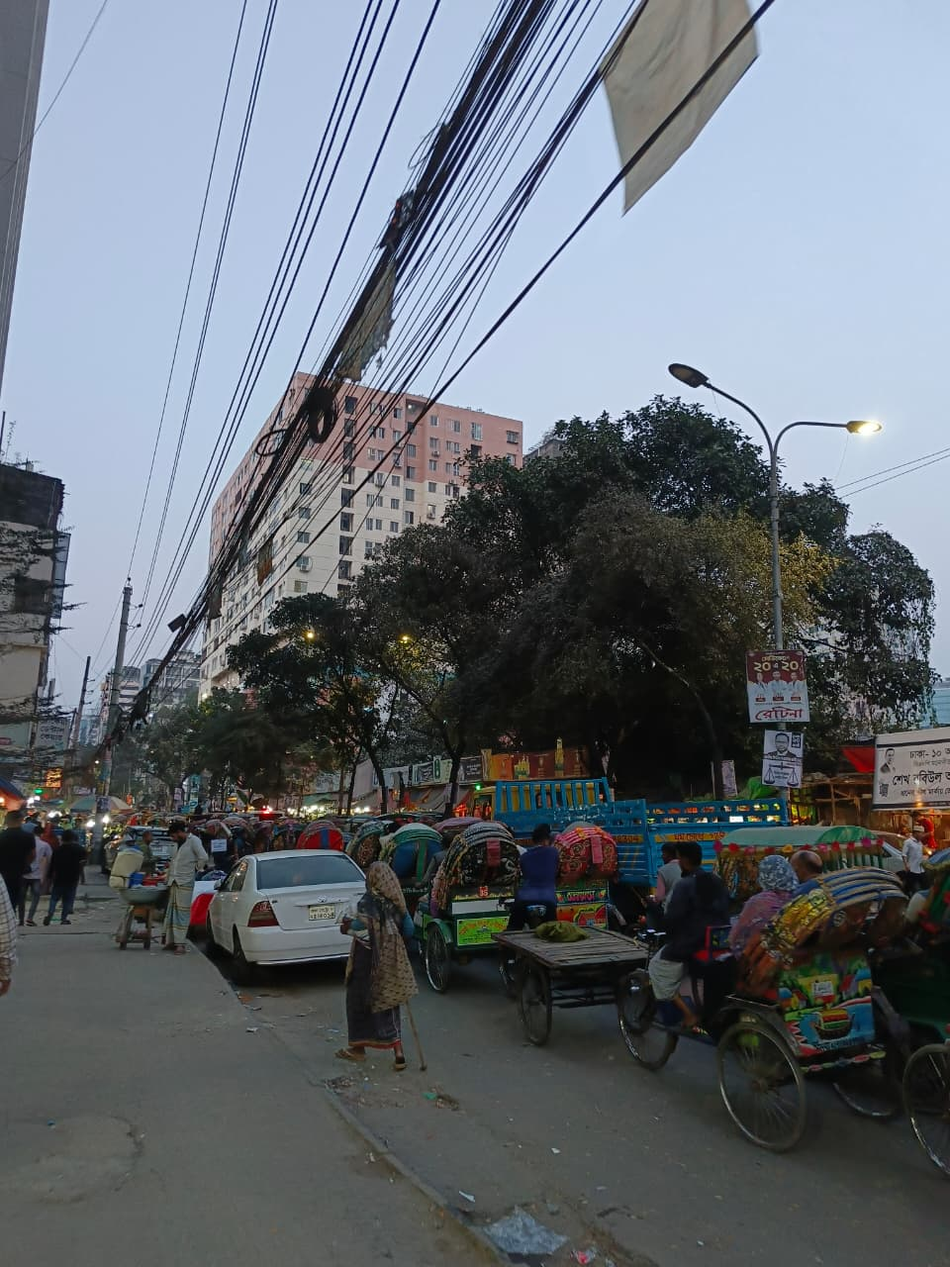auto-ricksaw: (614, 826, 921, 1161), (409, 806, 543, 990), (531, 813, 640, 990)
private car: (178, 833, 380, 994)
